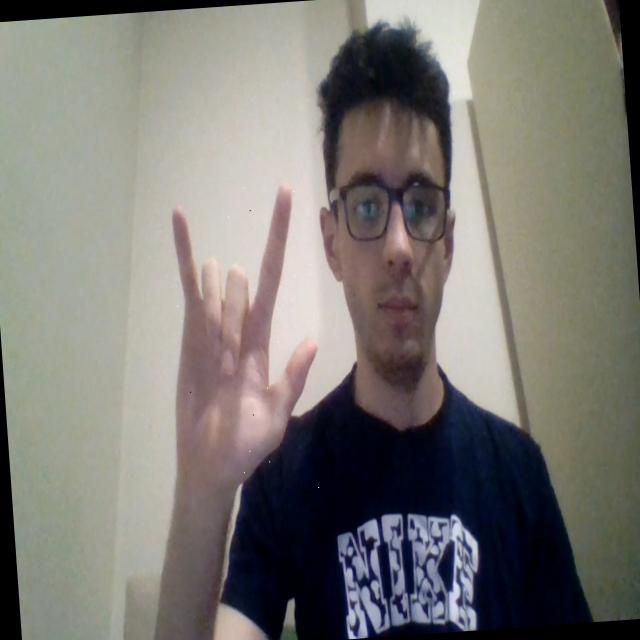iloveyou: (154, 180, 328, 498)
